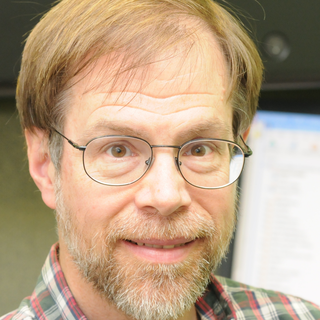eye: (99, 139, 139, 161), (180, 140, 216, 161)
